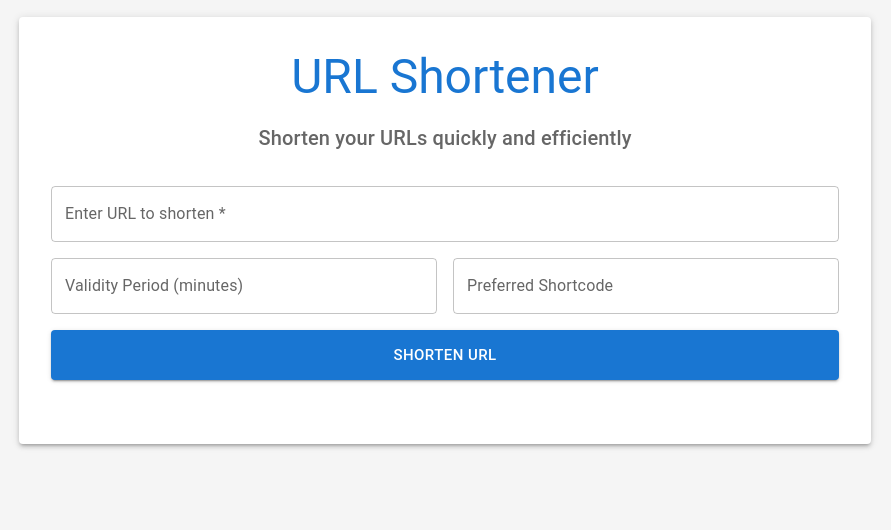
Test: UrlShortener Component › shows validation error for invalid validity period
This screenshot has width=891, height=530.
In the field labelled "Enter URL to shorten *": (445, 214) left=51, top=186, right=839, bottom=242, type "https://example.com"
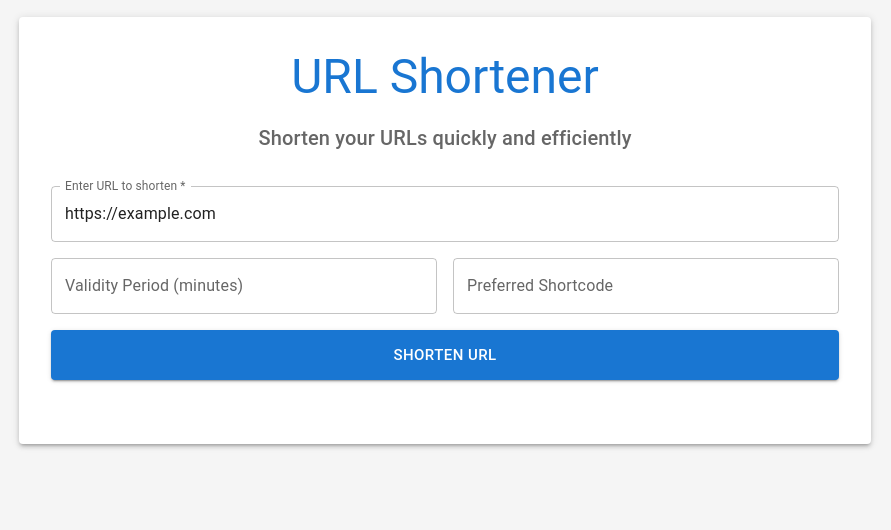
In the number field labelled "Validity Period (minutes)": (244, 286) left=51, top=258, right=437, bottom=314, type "-5"
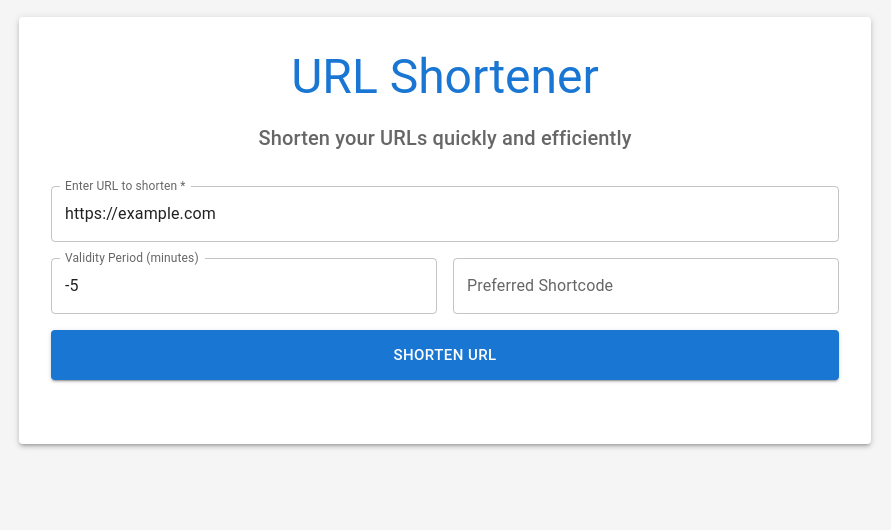
Click the button "Shorten URL": (445, 355) left=51, top=330, right=839, bottom=380
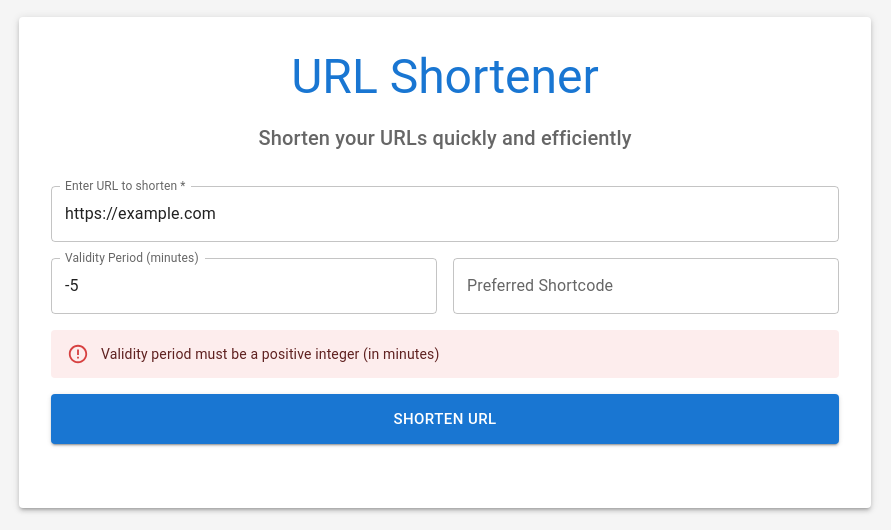
Result: the text "Validity period must be a positive integer (in minutes)" is shown at left=101, top=346, right=440, bottom=362
